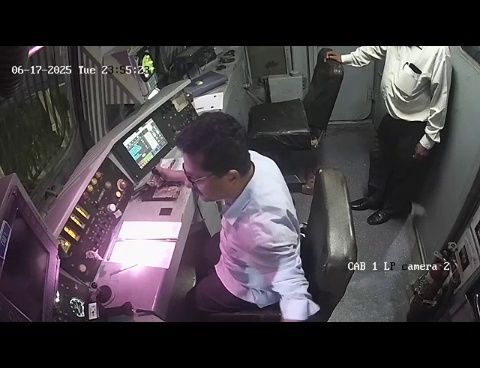horn_inactive: (80, 274, 123, 312)
